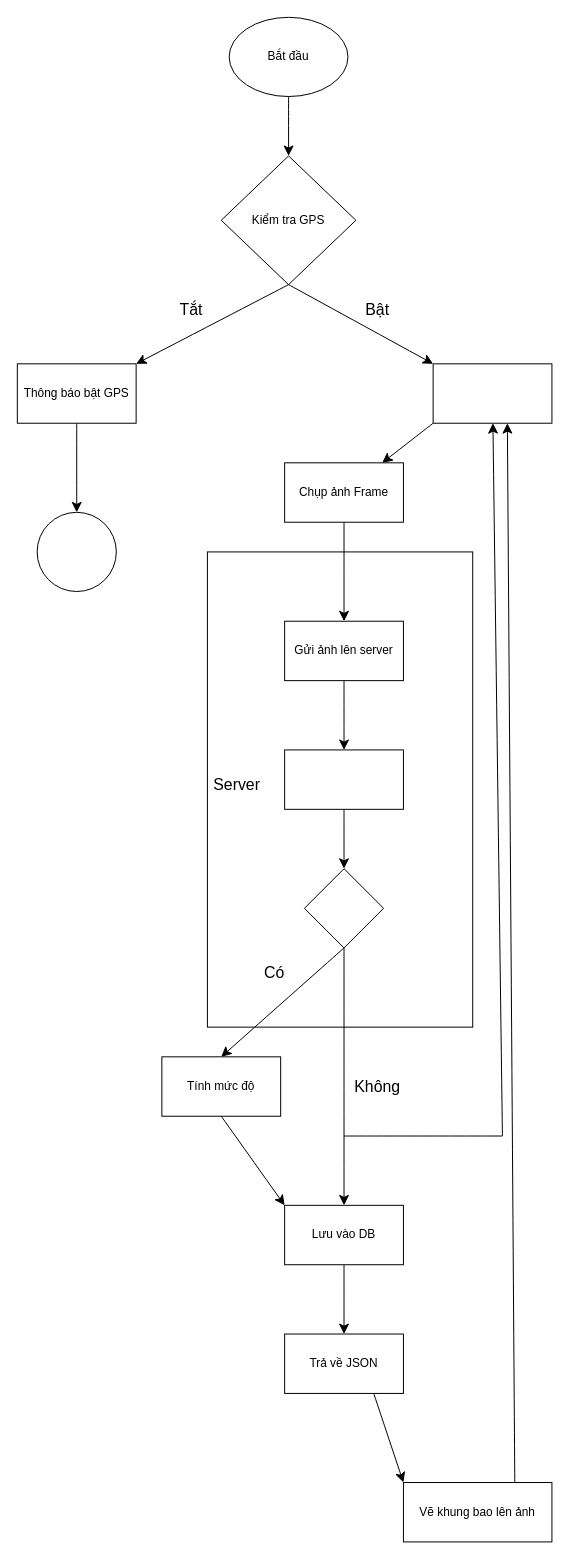
Some shapes in this 569 by 1559 pixel diagram are drawn without their labels. The shapes that lost their labels are listed below. From the top down, each one's centre as x and y in pixels, then its label:
the point at 492,393: Mở camera
the point at 76,551: Kết thúc
the point at 343,779: YOLOv8 dự đoán
the point at 343,908: Có ổ gà
